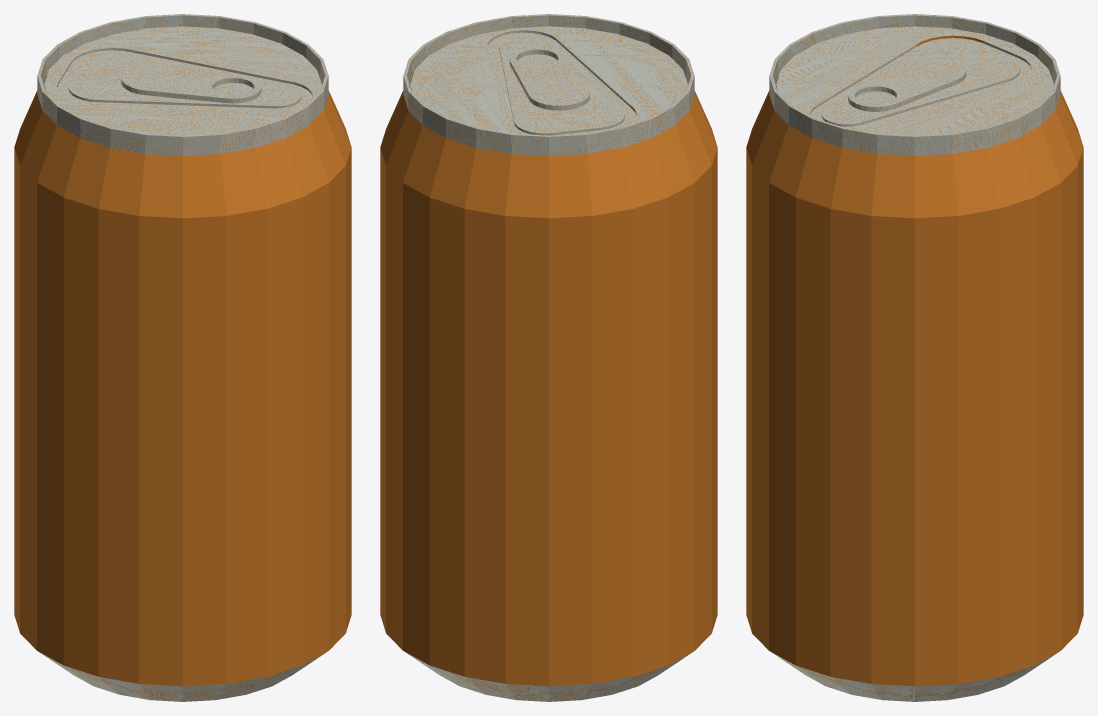
3 views of the same model, side by side, from view 1: azimuth 30°, elevation 25°; view 2: azimuth 150°, elevation 25°; view 3: azimuth 270°, elevation 25° (orthographic).
Parts seen in each view (by area): view 1: mesh1.001_mesh1-geometry; view 2: mesh1.001_mesh1-geometry; view 3: mesh1.001_mesh1-geometry.
Part boxes in pixels (x1,y1,x2,y2): mesh1.001_mesh1-geometry: (14, 14, 351, 701); mesh1.001_mesh1-geometry: (380, 14, 717, 701); mesh1.001_mesh1-geometry: (746, 14, 1083, 701).
Size of the model in its own units: 0.4258 by 0.7984 by 0.4258.
